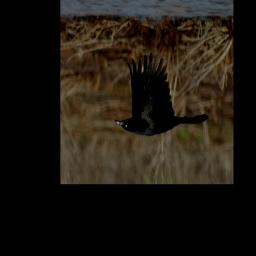Crow: (114, 52, 209, 137)
